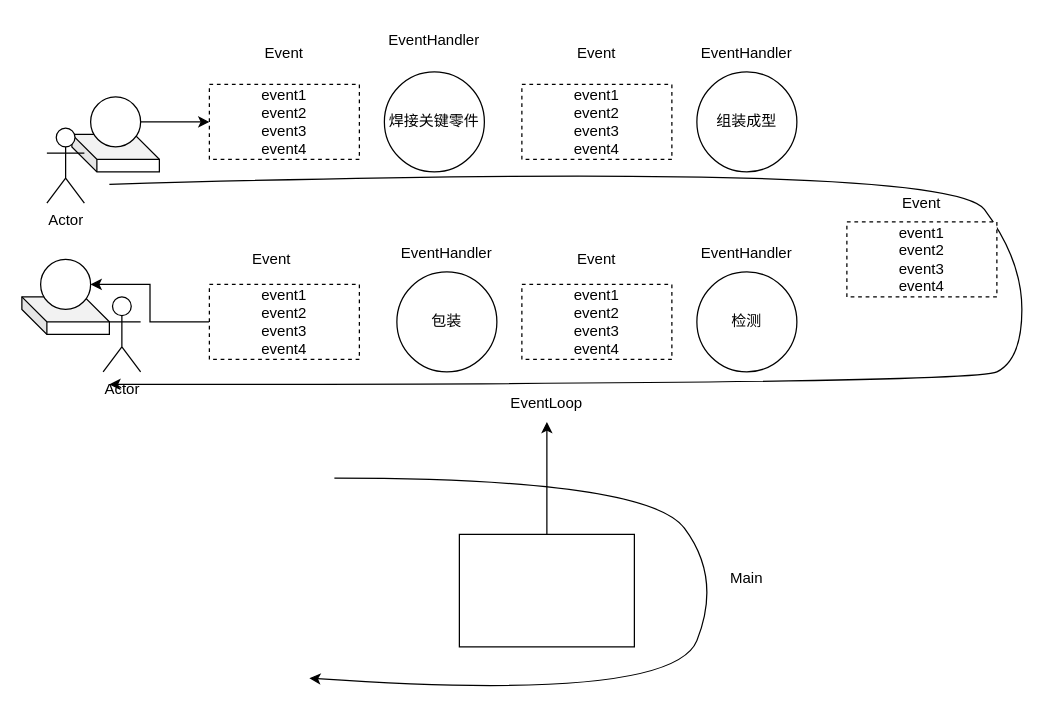
The diagram is 1044 pixels wide and 708 high, and some of its shapes have lost their labels. Each missing label, with the centre of its shape:
"产品 （Output）" goes at point 65,283.
"原材料 （Input）" goes at point 115,121.
"流程定义： 1. 焊接关键零件 2. 组装成型 3. 检测 4. 包装" goes at point 546,590.
